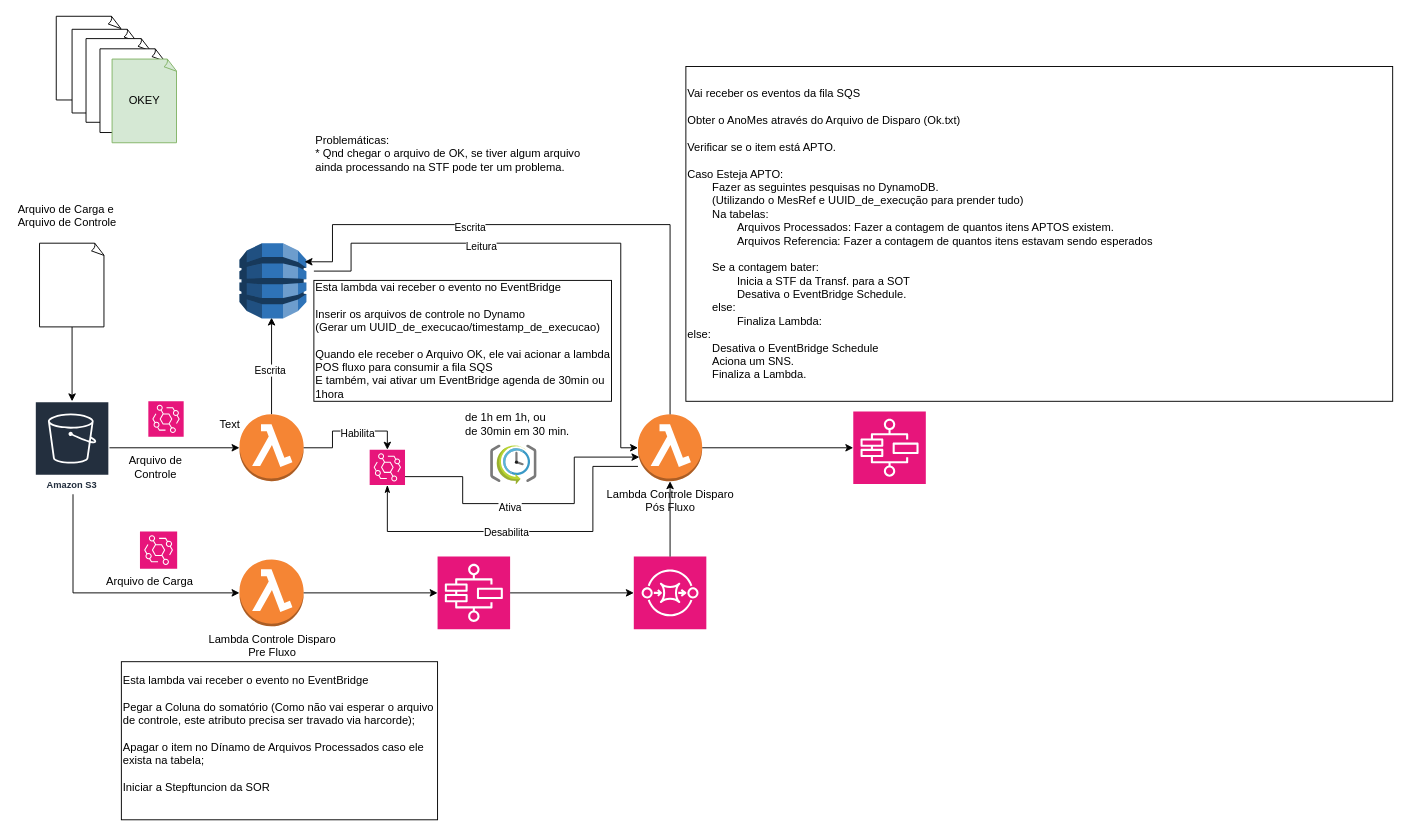
The diagram is 1409 pixels wide and 836 high, and some of its shapes have lost their labels. Here are the shapes that lost their labels. From the top down, the box of each, then its label:
(239, 413, 304, 481): Lambda Alimenta DynamoDB
(852, 411, 926, 484): StepFunction Transformação para SOT
(437, 556, 510, 629): StepFunction Regua Normal
(633, 556, 706, 629): SQS
